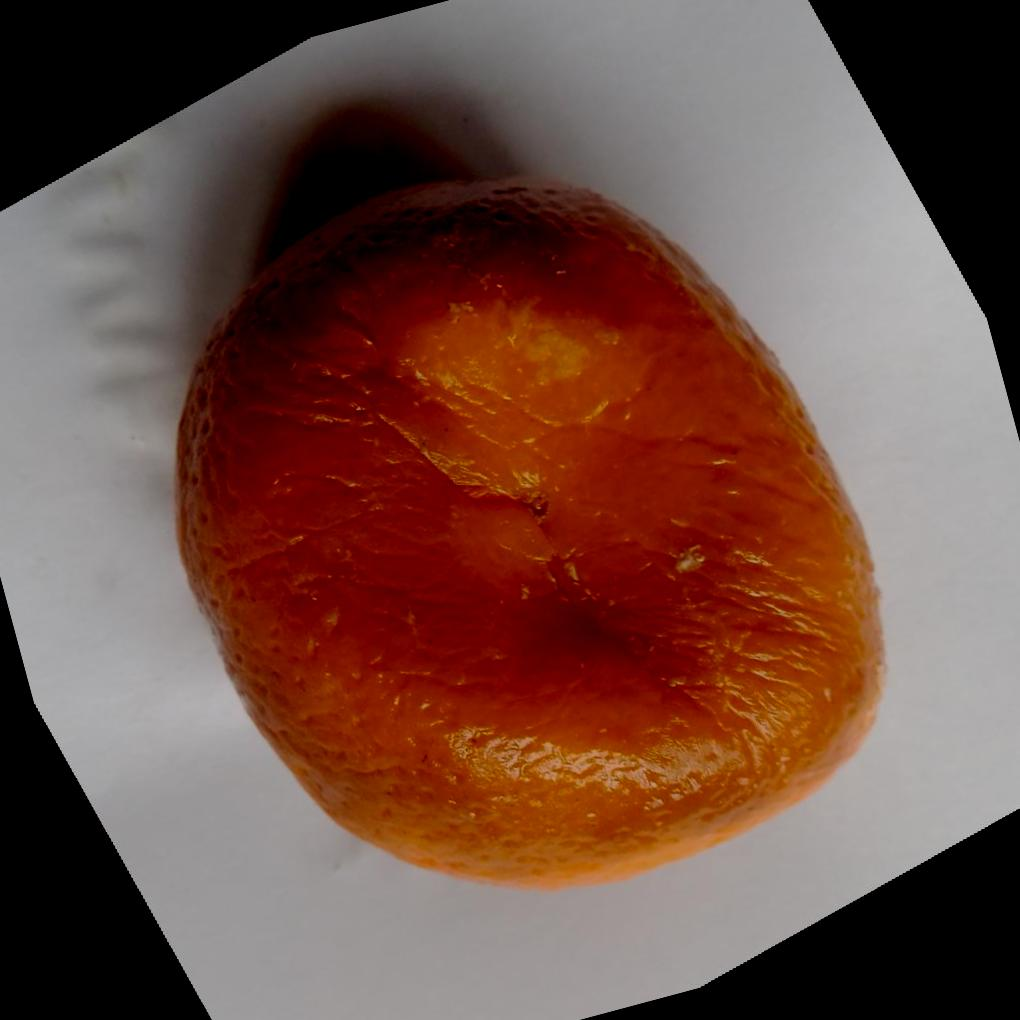FreshOrange: (175, 173, 891, 891)
